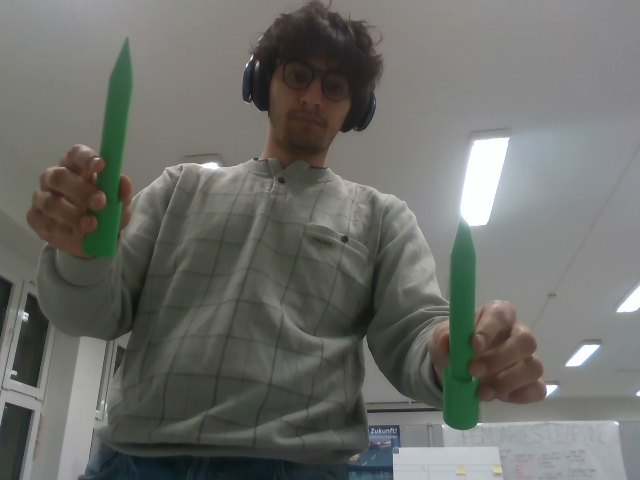Probe: (78, 32, 137, 260), (441, 211, 483, 432)
